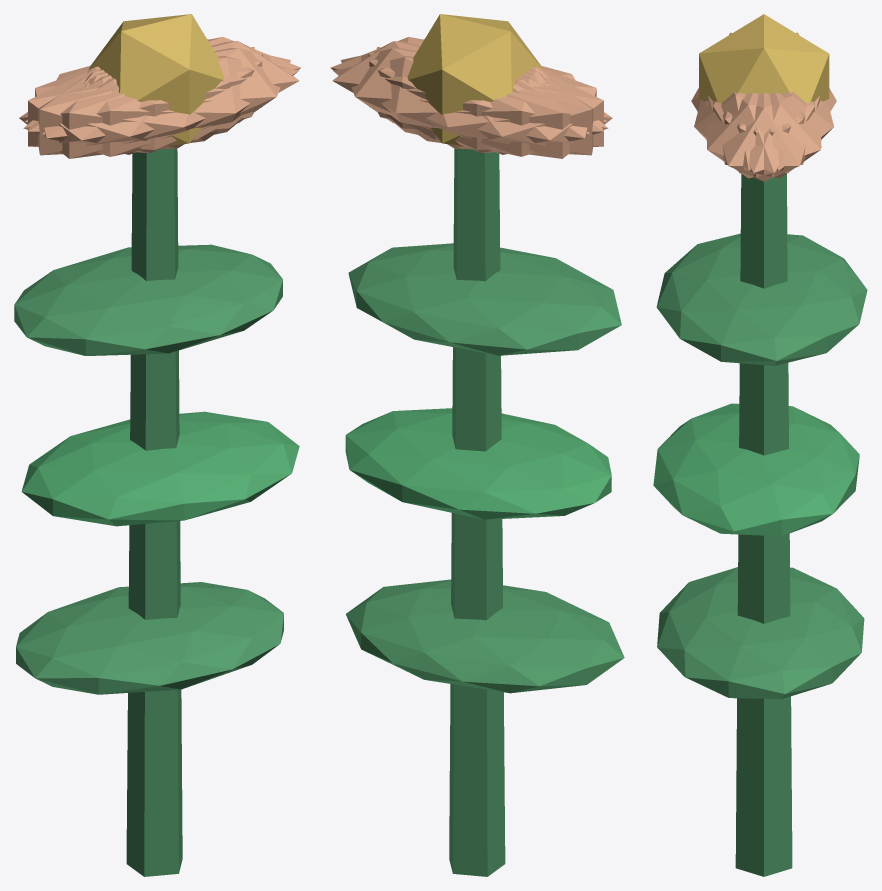
File: centrosema-virginianum.glb
The picture shows the model from 3 angles, left to right: view 1: azimuth 30°, elevation 25°; view 2: azimuth 150°, elevation 25°; view 3: azimuth 270°, elevation 25°; orthographic projection.
Parts seen in each view (by area): view 1: stem, leaf1, leaf2, leaf0, center, petal1, petal6, petal2, petal5, petal7, petal0, petal4 (+2 smaller); view 2: stem, leaf2, leaf0, leaf1, center, petal8, petal3, petal7, petal4, petal2, petal0, petal5 (+2 smaller); view 3: stem, leaf2, leaf1, leaf0, center, petal0, petal4, petal5, petal8, petal1.
Boxes of the visible parts, x1,y1,x2,y2 form: stem: (126, 148, 182, 876); leaf1: (21, 411, 299, 526); leaf2: (14, 244, 282, 355); leaf0: (16, 582, 283, 694); center: (88, 14, 224, 145); petal1: (23, 56, 298, 156); petal6: (19, 68, 218, 158); petal2: (38, 47, 254, 155); petal5: (42, 48, 290, 149); petal7: (28, 53, 262, 152); petal0: (88, 41, 299, 140); petal4: (24, 37, 300, 131); stem: (449, 148, 505, 876); leaf2: (348, 243, 621, 355); leaf0: (346, 579, 624, 693); leaf1: (345, 408, 611, 519); center: (407, 14, 542, 145); petal8: (333, 56, 608, 156); petal3: (413, 68, 612, 158); petal7: (376, 47, 593, 155); petal4: (341, 48, 589, 149); petal2: (368, 53, 603, 152); petal0: (332, 41, 543, 140); petal5: (330, 37, 606, 131); stem: (735, 173, 792, 876); leaf2: (656, 233, 867, 365); leaf1: (653, 403, 859, 536); leaf0: (657, 567, 864, 699); center: (699, 14, 829, 103); petal0: (708, 92, 819, 181); petal4: (713, 92, 821, 178); petal5: (706, 92, 814, 178); petal8: (722, 92, 833, 170); petal1: (694, 92, 805, 170).
Bounding box in the file's own units: 0.149 × 0.4315 × 0.1005.
